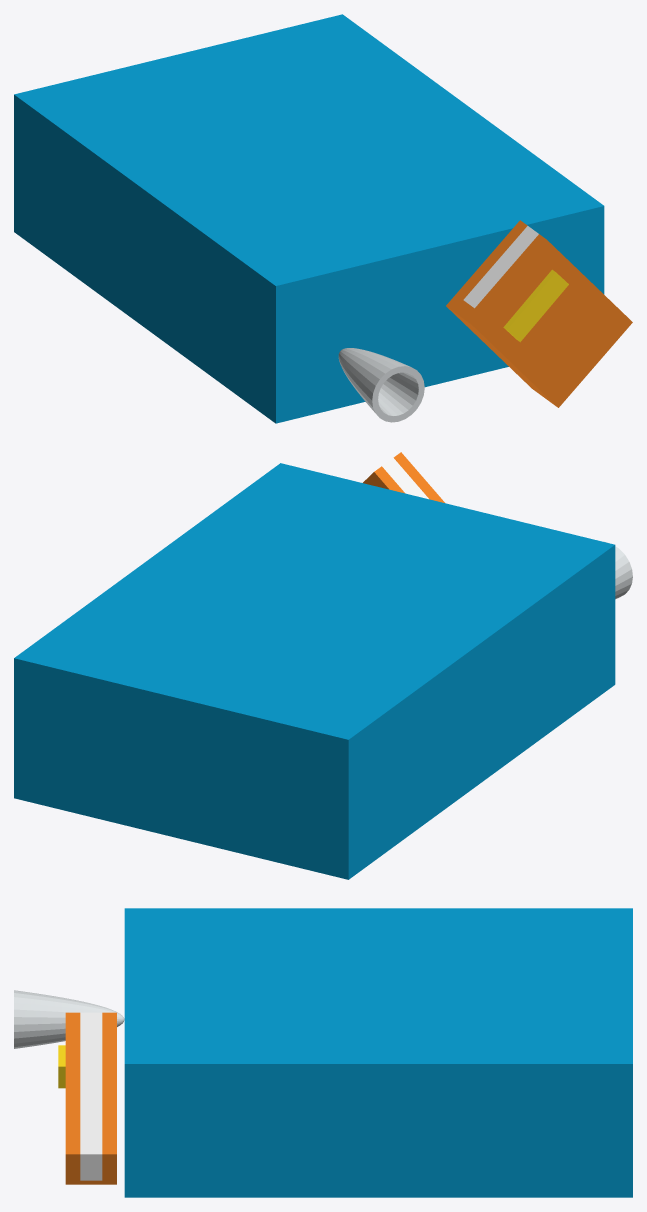
The model's file is tinker.obj.
The picture shows the model from 3 angles, top to bottom: view 1: azimuth 30°, elevation 25°; view 2: azimuth 150°, elevation 25°; view 3: azimuth 270°, elevation 25°; orthographic projection. The views are drawn at different scales.
Parts seen in each view (by area): view 1: group_0_40919, group_0_16089887, group_0_14541540, group_0_16768282, group_0_16448250; view 2: group_0_40919, group_0_16089887, group_0_14541540, group_0_16448250; view 3: group_0_40919, group_0_16089887, group_0_16448250, group_0_14541540.
Part boxes in pixels (left/top/right/bottom): group_0_40919: left=14, top=14, right=604, bottom=423; group_0_16089887: left=446, top=220, right=632, bottom=407; group_0_14541540: left=338, top=348, right=424, bottom=422; group_0_16768282: left=503, top=269, right=568, bottom=342; group_0_16448250: left=463, top=226, right=538, bottom=308; group_0_40919: left=14, top=463, right=615, bottom=879; group_0_16089887: left=363, top=452, right=444, bottom=502; group_0_14541540: left=603, top=541, right=632, bottom=599; group_0_16448250: left=382, top=458, right=428, bottom=499; group_0_40919: left=124, top=908, right=632, bottom=1197; group_0_16089887: left=65, top=1012, right=116, bottom=1184; group_0_16448250: left=80, top=1012, right=102, bottom=1180; group_0_14541540: left=14, top=990, right=124, bottom=1048.
Bounding box in the file's own units: 50 × 25.47 × 84.
